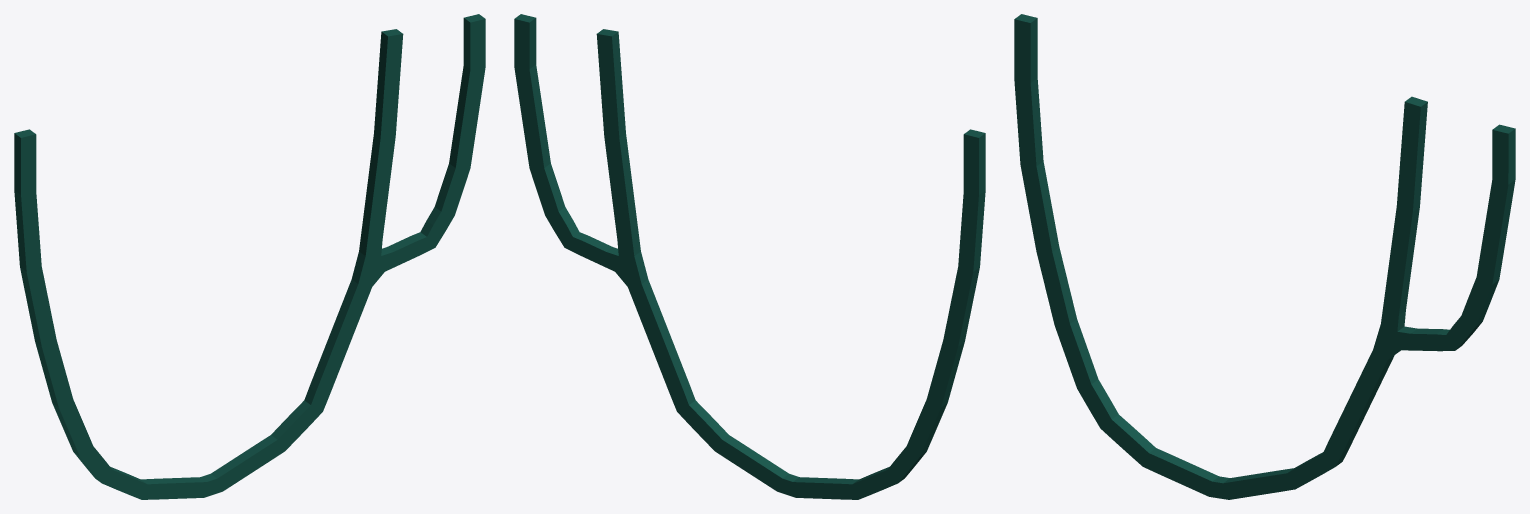
The model's file is liana_002_grp.fbx.
The picture shows the model from 3 angles, left to right: view 1: azimuth 30°, elevation 25°; view 2: azimuth 150°, elevation 25°; view 3: azimuth 330°, elevation 25°; orthographic projection. The views are drawn at different scales.
Visible parts, largest first — view 1: liana_002_grp; view 2: liana_002_grp; view 3: liana_002_grp.
Boxes of the visible parts, x1,y1,x2,y2 form: liana_002_grp: (14,14,485,499); liana_002_grp: (514,14,985,499); liana_002_grp: (1014,14,1515,499).
Bounding box in the file's own units: 700 × 600 × 17.46.
